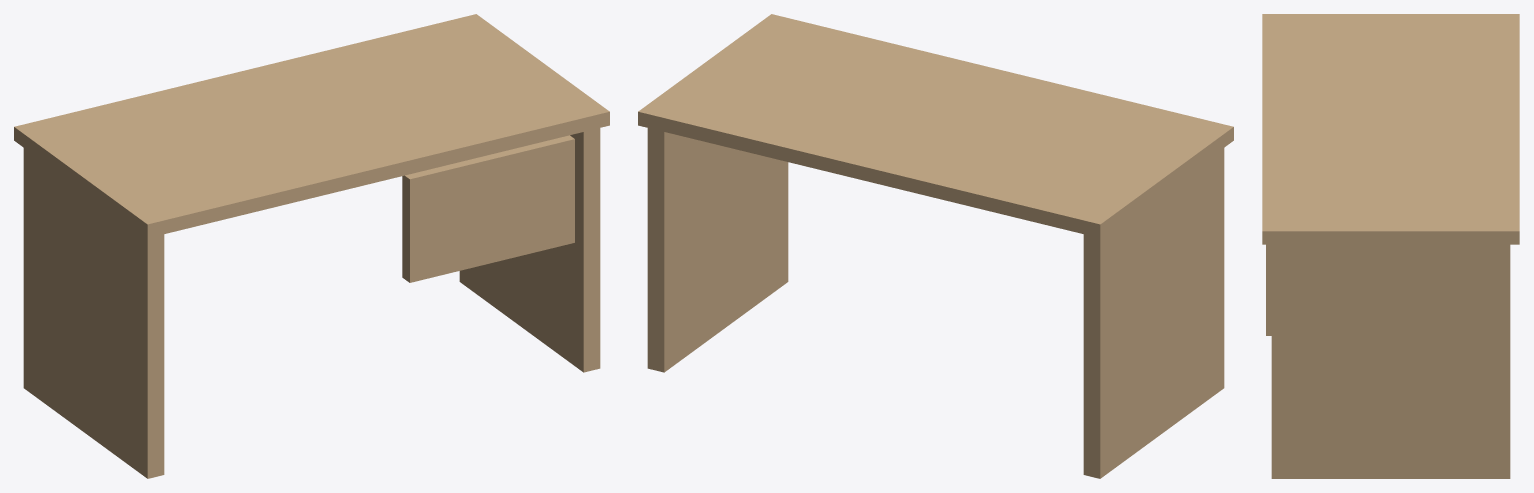
The model's file is fu_desk.glb.
The picture shows the model from 3 angles, left to right: view 1: azimuth 30°, elevation 25°; view 2: azimuth 150°, elevation 25°; view 3: azimuth 270°, elevation 25°; orthographic projection. The views are drawn at different scales.
Parts seen in each view (by area): view 1: fu_desk; view 2: fu_desk; view 3: fu_desk.
Part boxes in pixels (bbox=[...]): fu_desk: bbox=[14, 14, 609, 478]; fu_desk: bbox=[638, 14, 1233, 478]; fu_desk: bbox=[1262, 14, 1519, 478].
Bounding box in the file's own units: 1.4 × 0.75 × 0.7.
